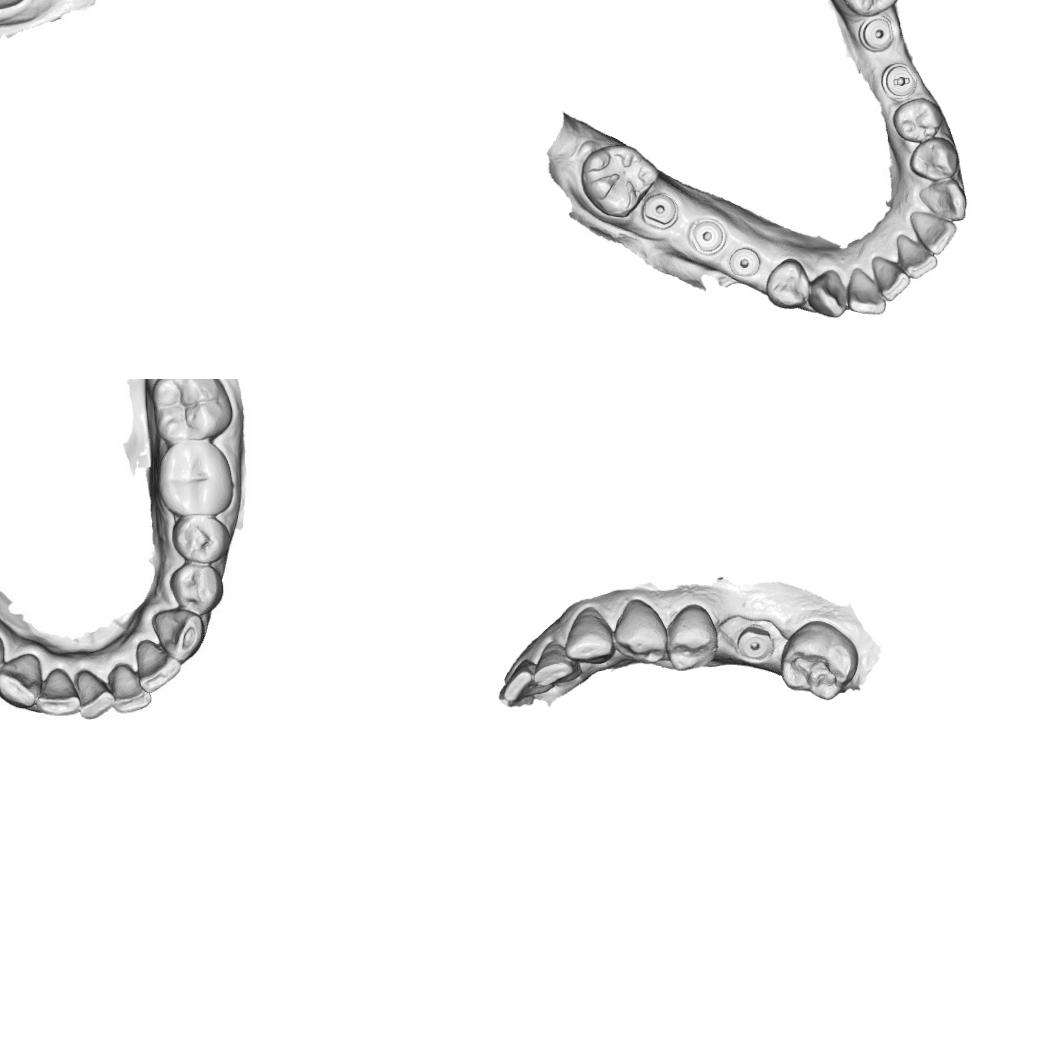canine: (562, 605, 616, 666), (150, 606, 204, 664), (0, 648, 44, 708), (917, 178, 969, 224), (808, 268, 846, 319)
implant: (641, 188, 679, 228), (737, 622, 772, 664), (690, 218, 726, 256), (859, 15, 895, 52), (728, 244, 762, 280)
implant_minus: (881, 61, 920, 102)
incisor: (133, 637, 180, 694), (907, 206, 958, 256), (498, 660, 552, 706), (109, 660, 151, 714), (74, 667, 115, 722), (844, 265, 887, 316), (37, 667, 79, 718), (894, 232, 937, 281), (532, 643, 581, 686), (868, 254, 908, 304)
molar: (778, 618, 860, 701), (576, 138, 656, 219), (154, 439, 236, 518), (149, 379, 237, 444), (830, 0, 902, 17)
premolar: (664, 602, 716, 672), (614, 596, 666, 666), (168, 558, 222, 616), (170, 514, 230, 566), (892, 96, 948, 146), (764, 257, 810, 313), (908, 136, 962, 182)
